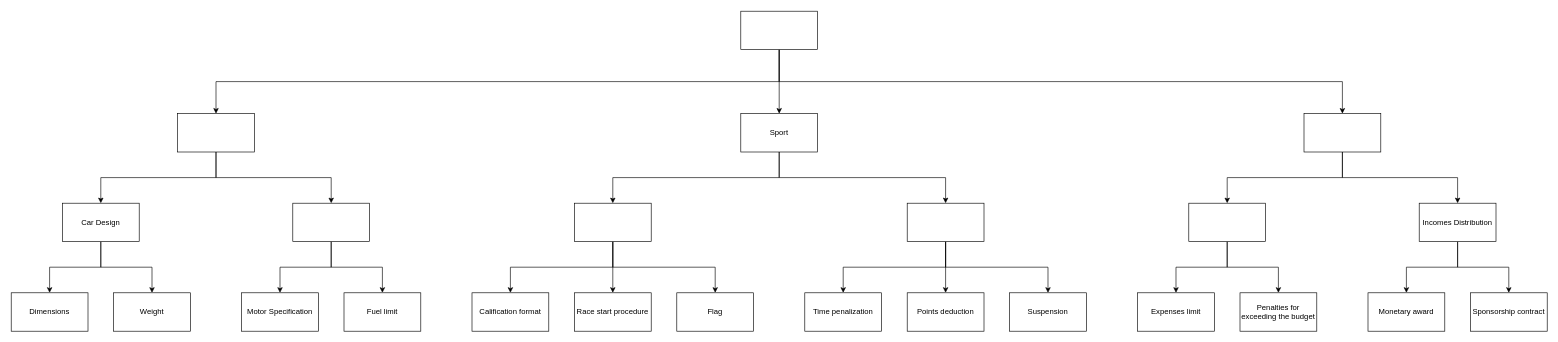
The diagram is 1558 pixels wide and 342 high, and some of its shapes have lost their labels. The centre of each missing label's shape, as x and y in pixels:
"Budget Cap" goes at pixel 1227 222.
"Calification & Race" goes at pixel 612 222.
"Financial" goes at pixel 1342 132.
"Formula One Regulation" goes at pixel 779 30.
"Motor & Power Unit" goes at pixel 331 222.
"Sanction & penalty" goes at pixel 945 222.
"Technical" goes at pixel 215 132.
